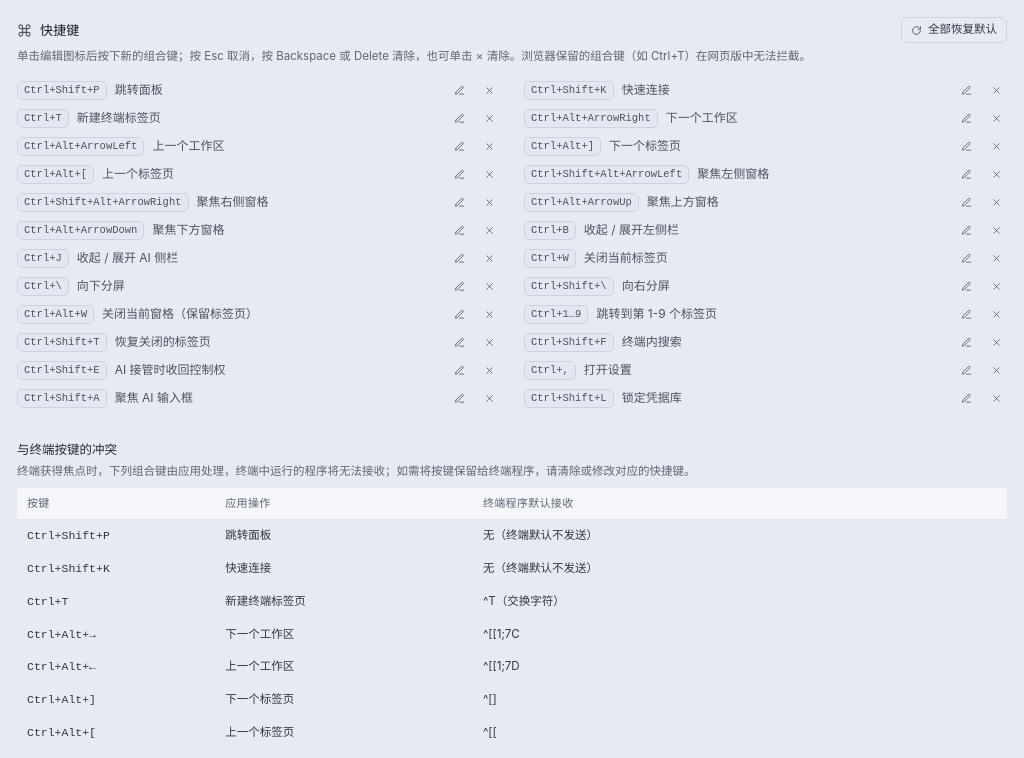
Test: shortcuts editor › captures a new binding and persists it
Click the button named "修改快捷键：跳转面板" at coordinates (459, 90), box left=448, top=79, right=470, bottom=101
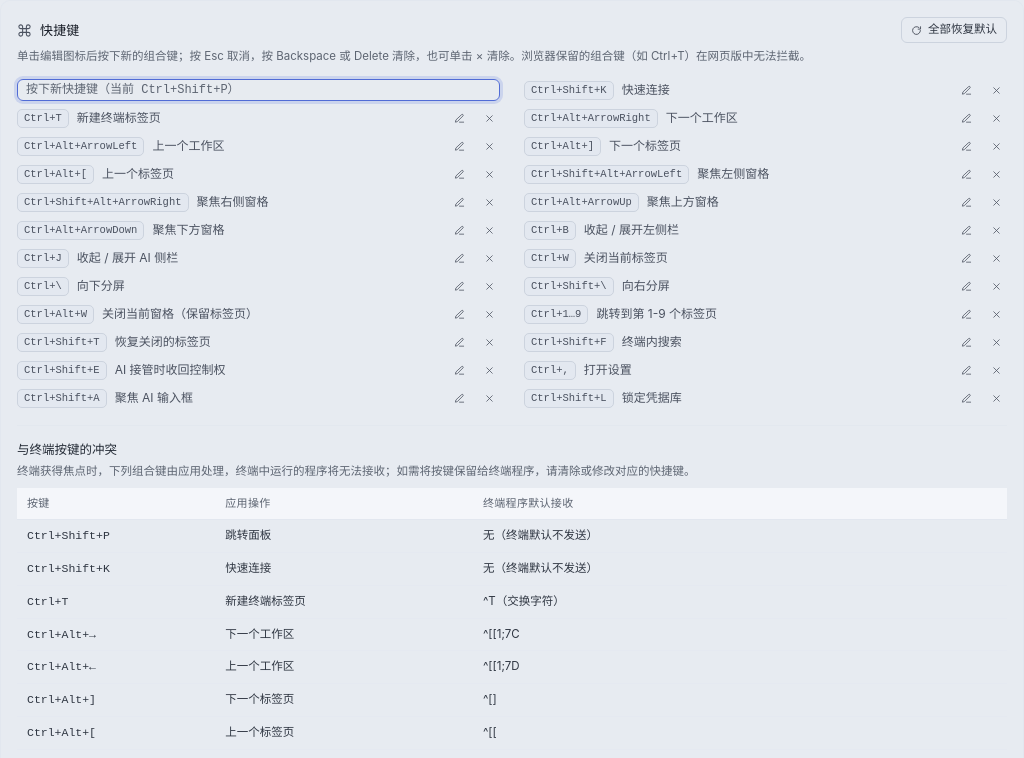
Now the field with placeholder "按下新快捷键（当前 Ctrl+Shift+P）" is shown
Press o in the field with placeholder "按下新快捷键（当前 Ctrl+Shift+P）", box left=17, top=79, right=500, bottom=101
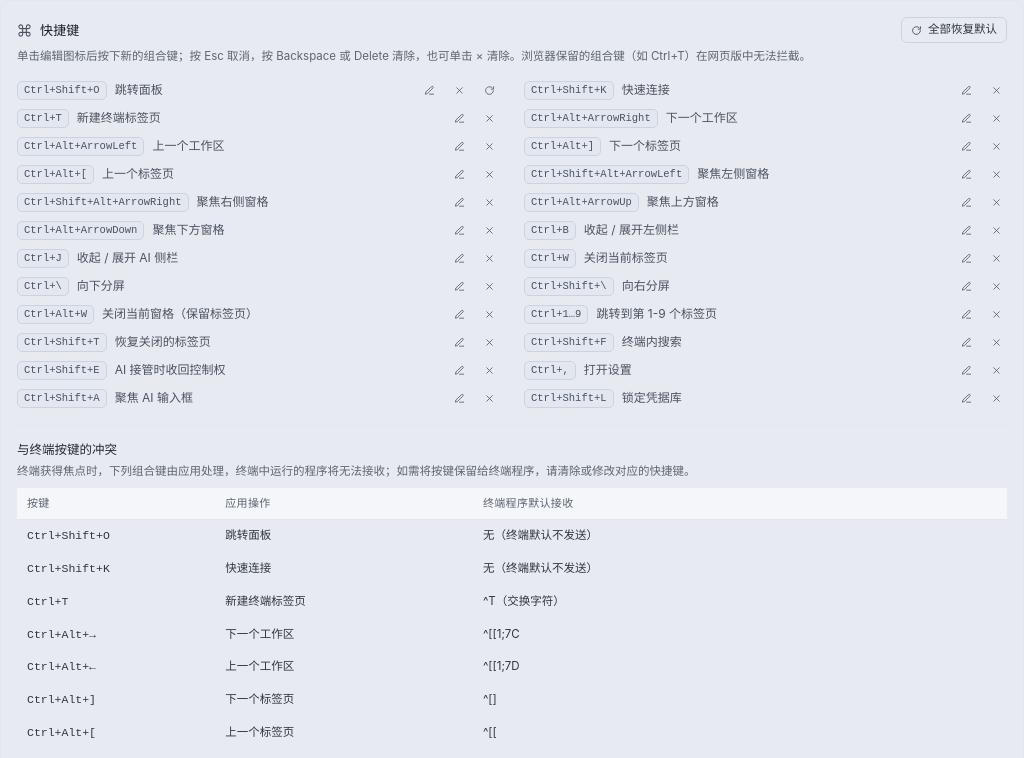
Now the text with class "nx-kbd" reads "Ctrl+Shift+O", box left=24, top=84, right=100, bottom=96
